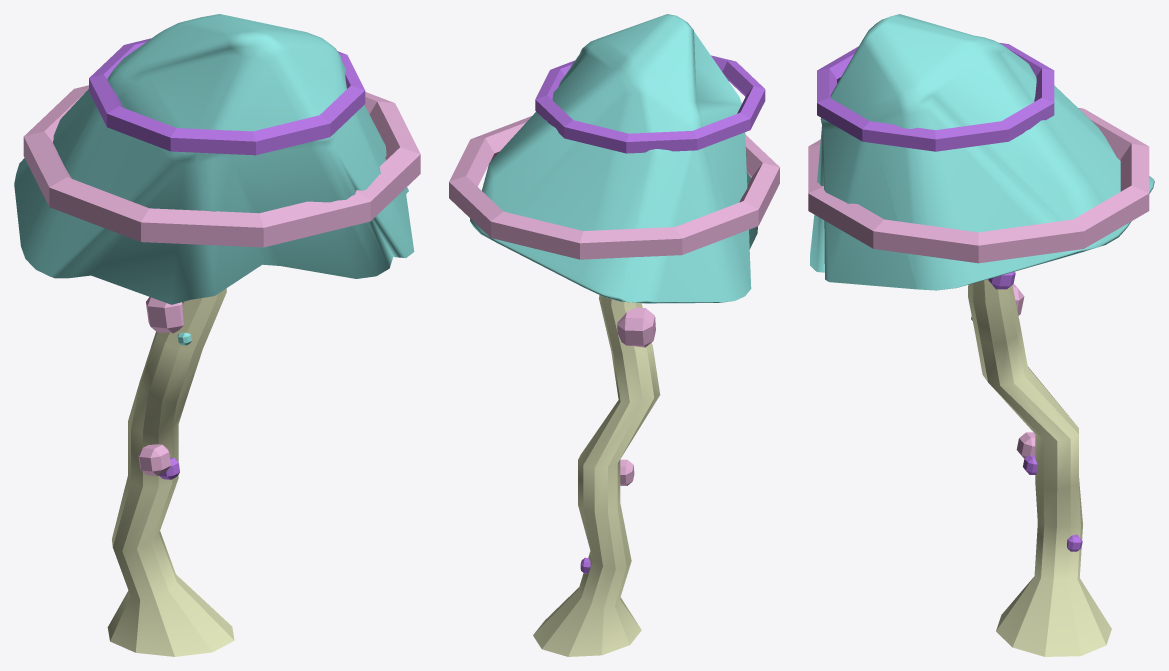
The model's file is Musg13.fbx.
3 renders of one model, left to right at view 1: azimuth 30°, elevation 25°; view 2: azimuth 150°, elevation 25°; view 3: azimuth 270°, elevation 25°, orthographic. The views are drawn at different scales.
Visible parts, largest first — view 1: pasted__pTorus1; view 2: pasted__pTorus1; view 3: pasted__pTorus1.
Boxes of the visible parts, x1,y1,x2,y2 form: pasted__pTorus1: [14, 14, 420, 656]; pasted__pTorus1: [449, 14, 779, 656]; pasted__pTorus1: [808, 14, 1154, 656].
Size of the model in its own units: 3.25 by 6.09 by 3.14.
